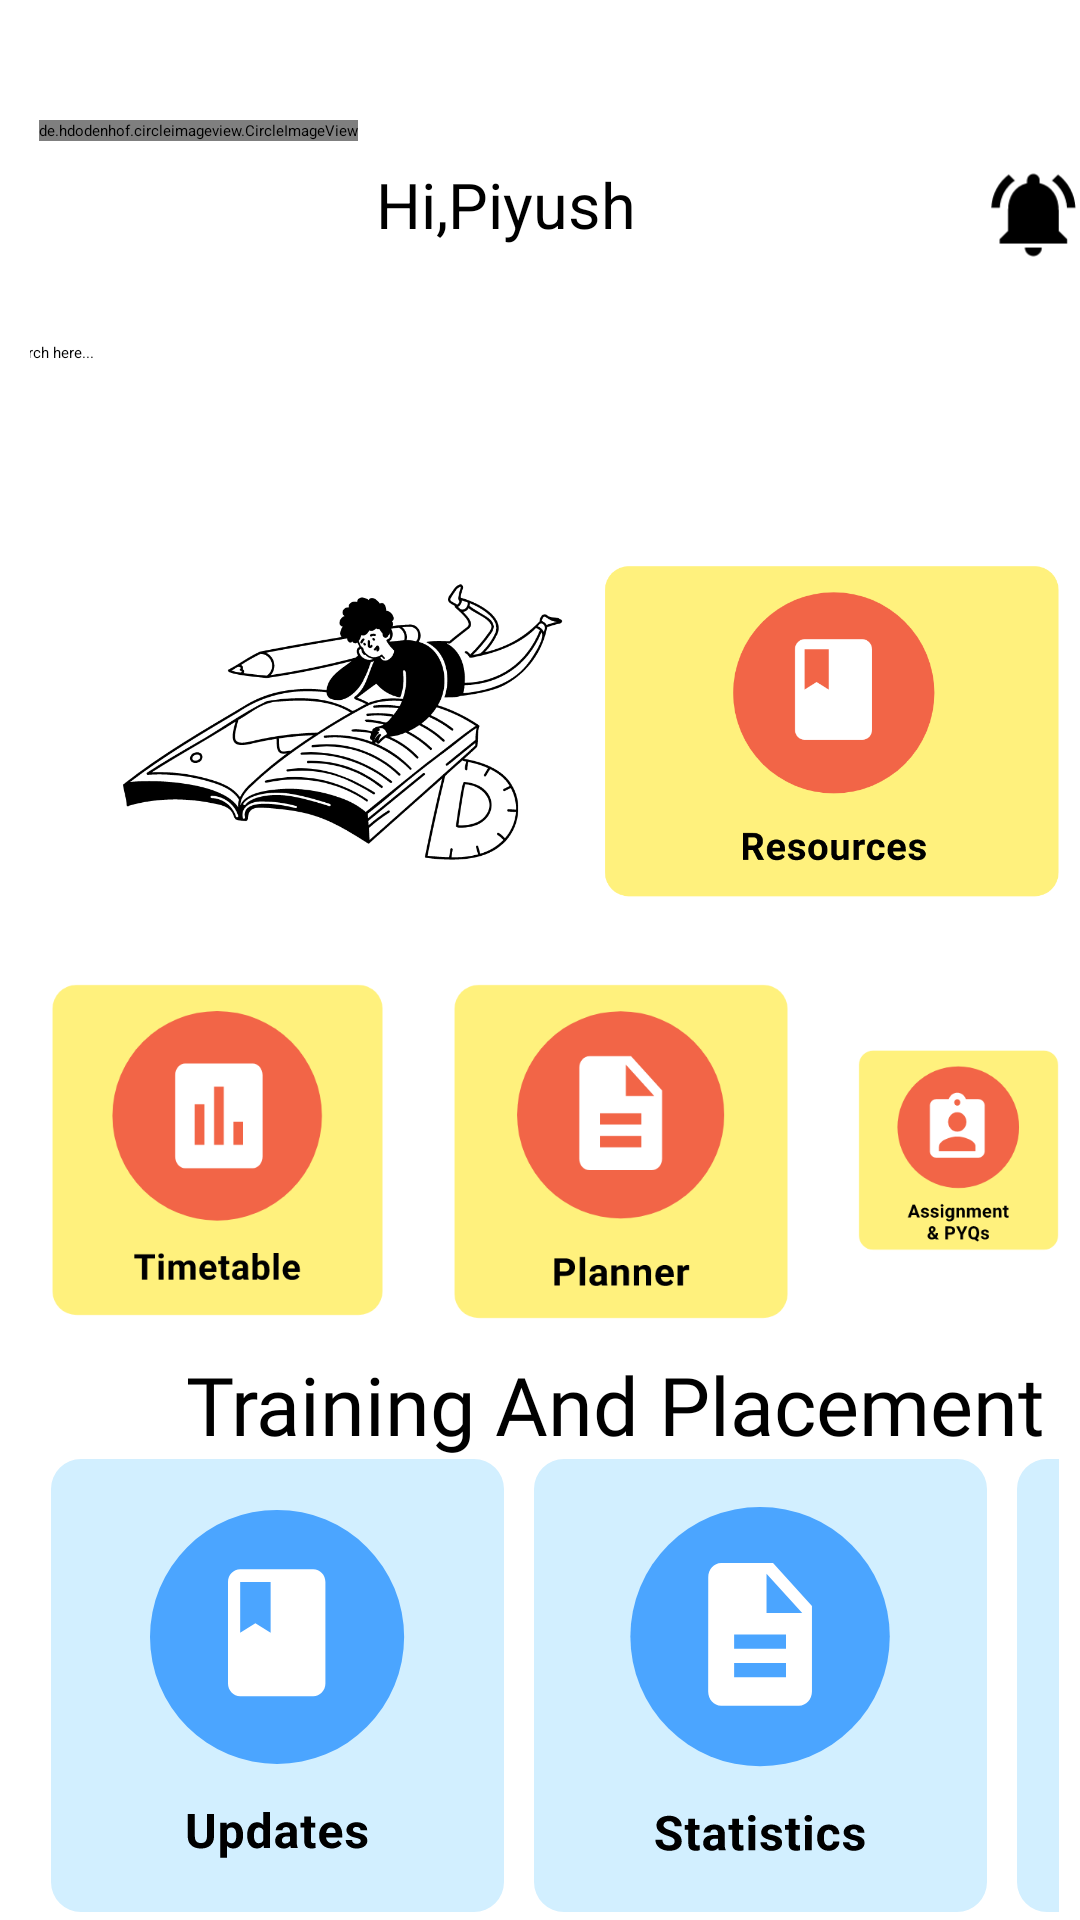

Icon click points for this 1080×1920 phone screenshot, format point (x, y):
notifications: point (1033, 215)
